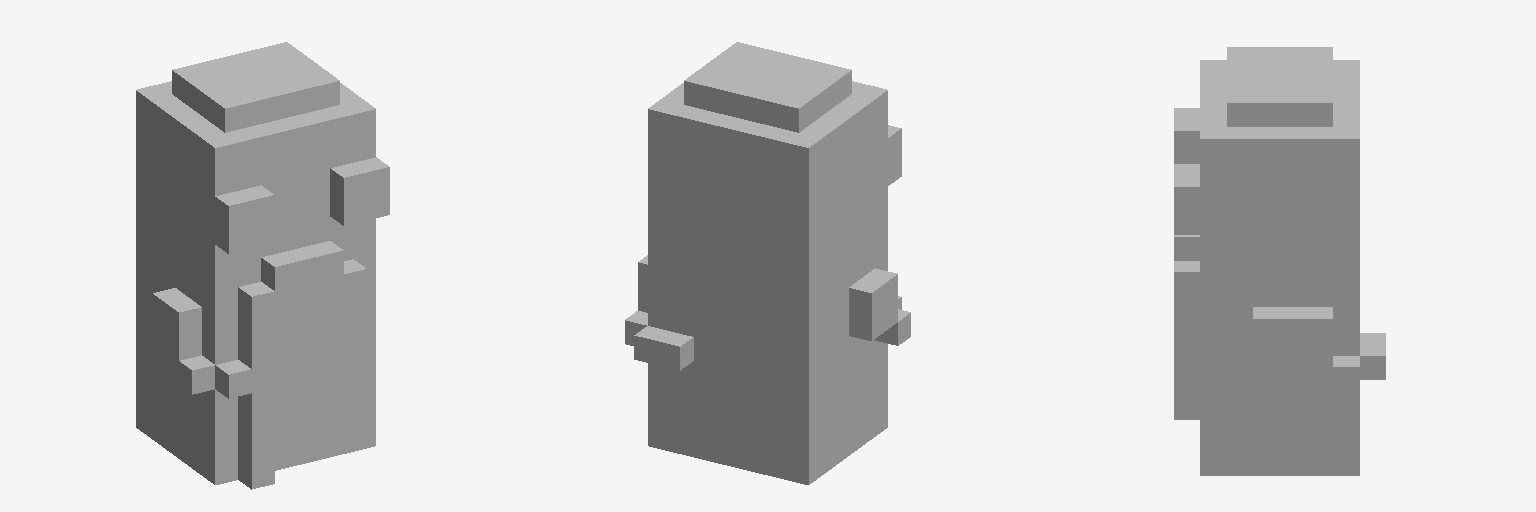
File: chr_old x15.obj
3 renders of one model, left to right at view 1: azimuth 30°, elevation 25°; view 2: azimuth 150°, elevation 25°; view 3: azimuth 270°, elevation 25°, orthographic.
Parts seen in each view (by area): view 1: chr_old x15; view 2: chr_old x15; view 3: chr_old x15.
Part boxes in pixels (x1,y1,x2,y2): chr_old x15: (136,42,389,489); chr_old x15: (625,42,910,484); chr_old x15: (1174,47,1385,475).
Bounding box in the file's own units: 9 × 15 × 8.